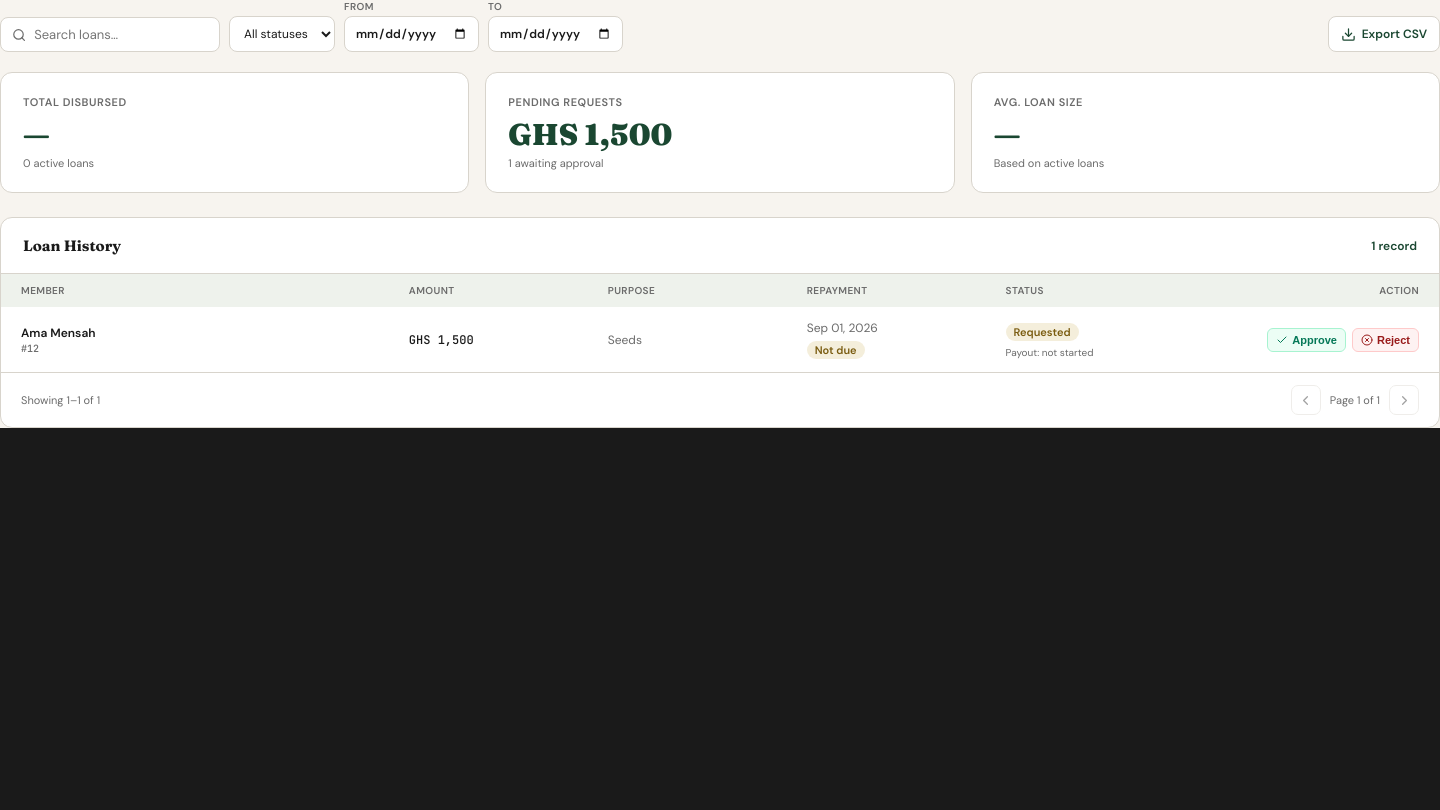
Loans operations › requires a rejection reason and reports SMS delivery
Click the button "Reject". click: x=1386, y=340
box: [1352,328,1419,352]
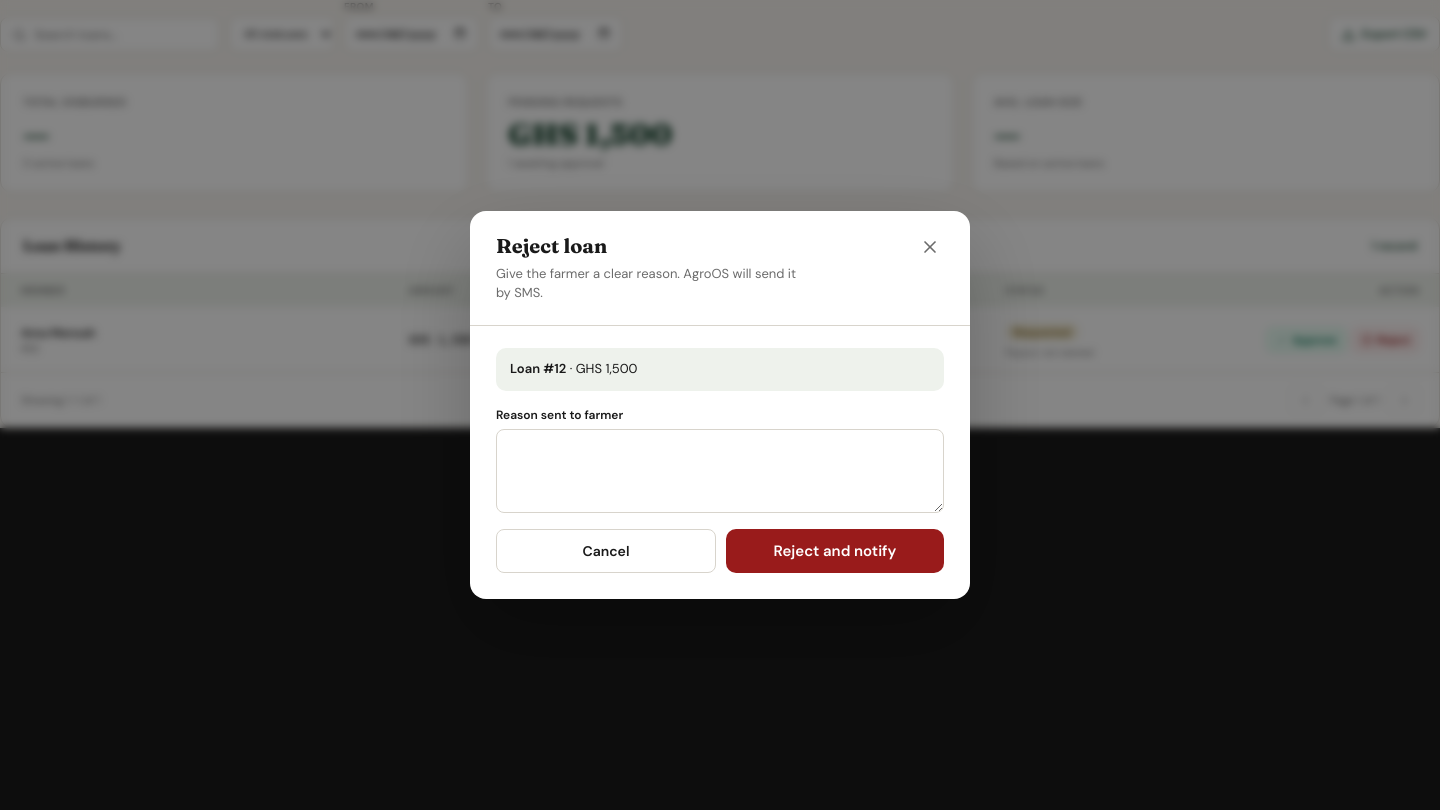
Click the button "Reject and notify". click: x=835, y=551
box: [726,529,944,573]
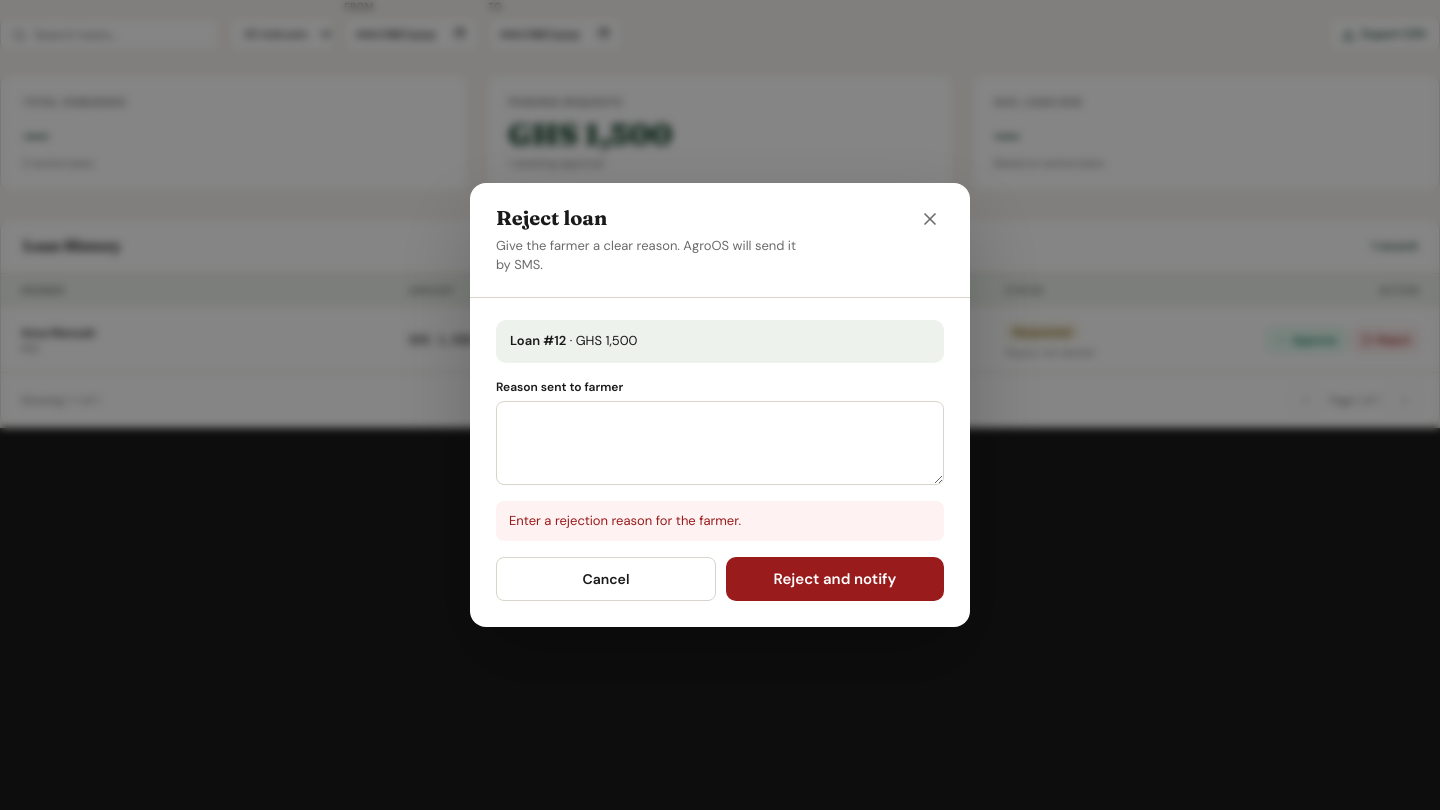
Expected: the message shows "Enter a rejection reason", [509,512,741,529]
Type "Insufficient repayment history" into the text box labelled "Reason sent to farmer". click: x=720, y=443
box: [496,401,944,485]
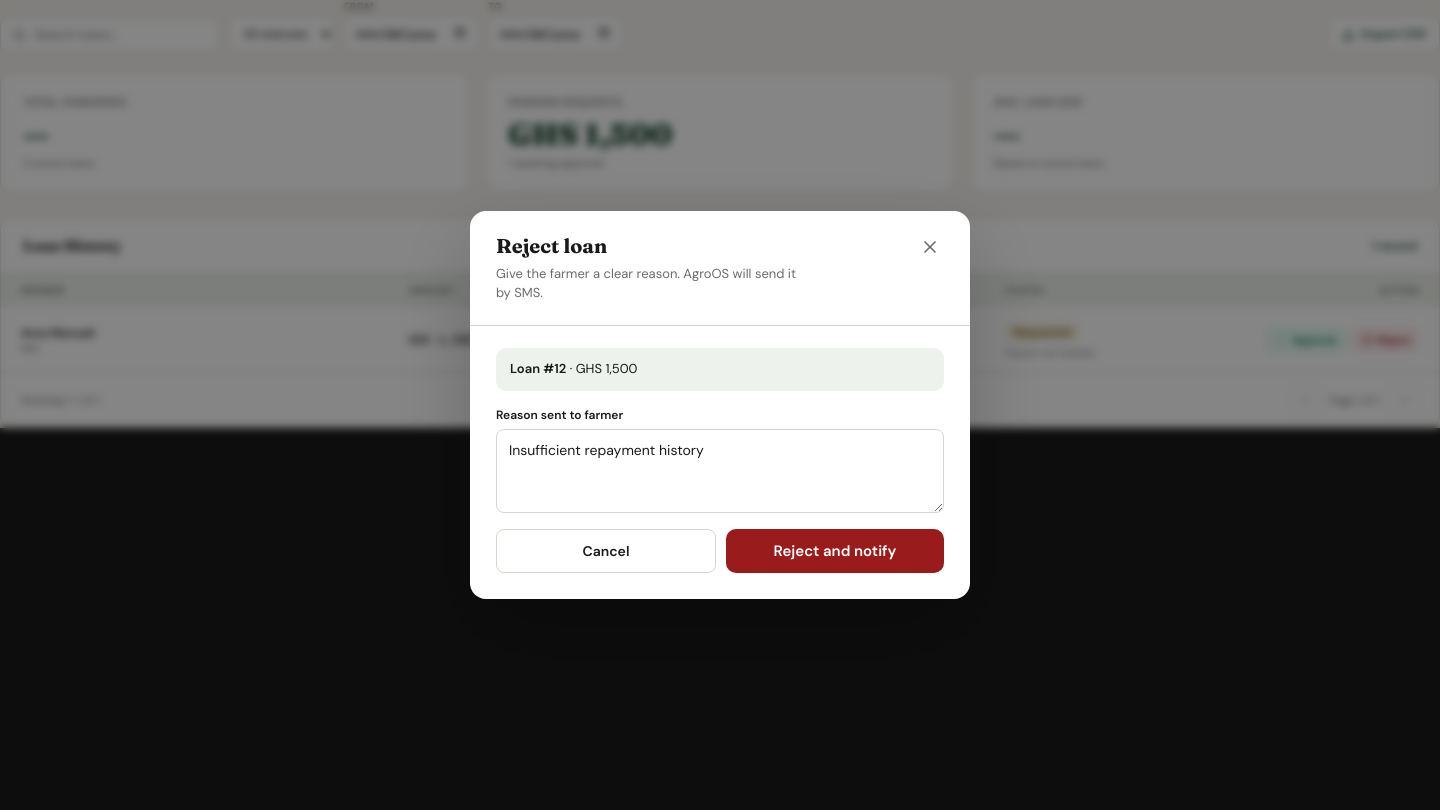
Click the button "Reject and notify". click: x=835, y=551
box: [726,529,944,573]
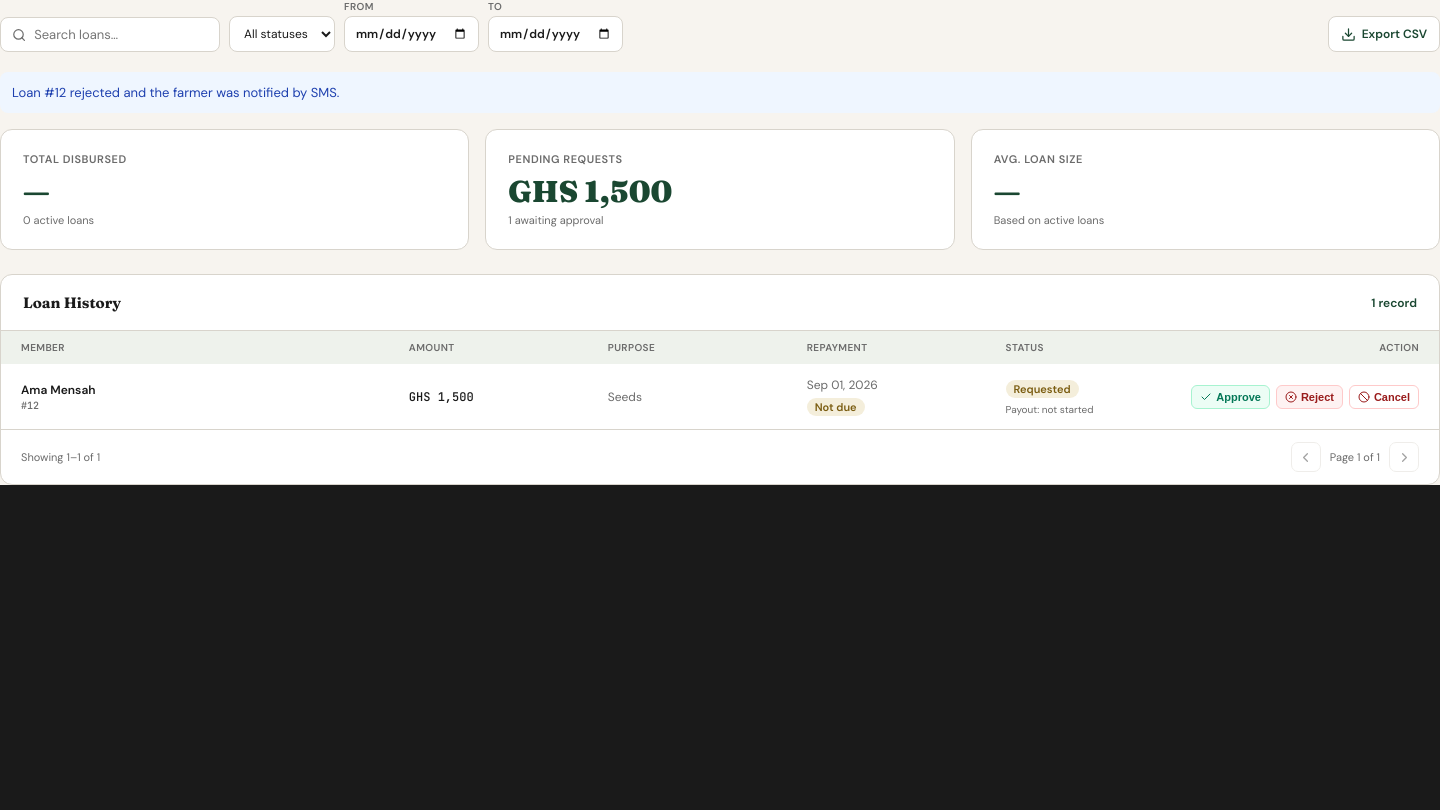
Expected: the text "Loan #12 rejected and the farmer was notified by SMS." is shown, [0,72,1439,113]
